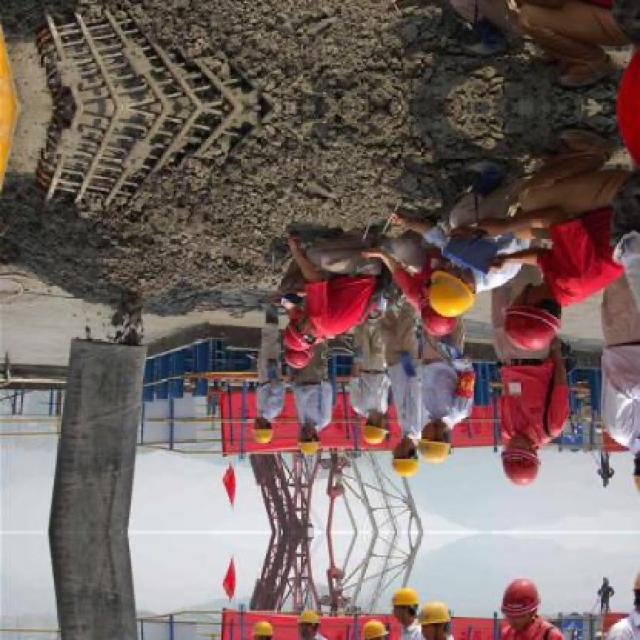con casco: (491, 268, 591, 366), (395, 245, 511, 328), (247, 308, 323, 372), (491, 432, 560, 494), (370, 439, 434, 482), (399, 425, 462, 464), (291, 424, 343, 468), (356, 411, 401, 457)
